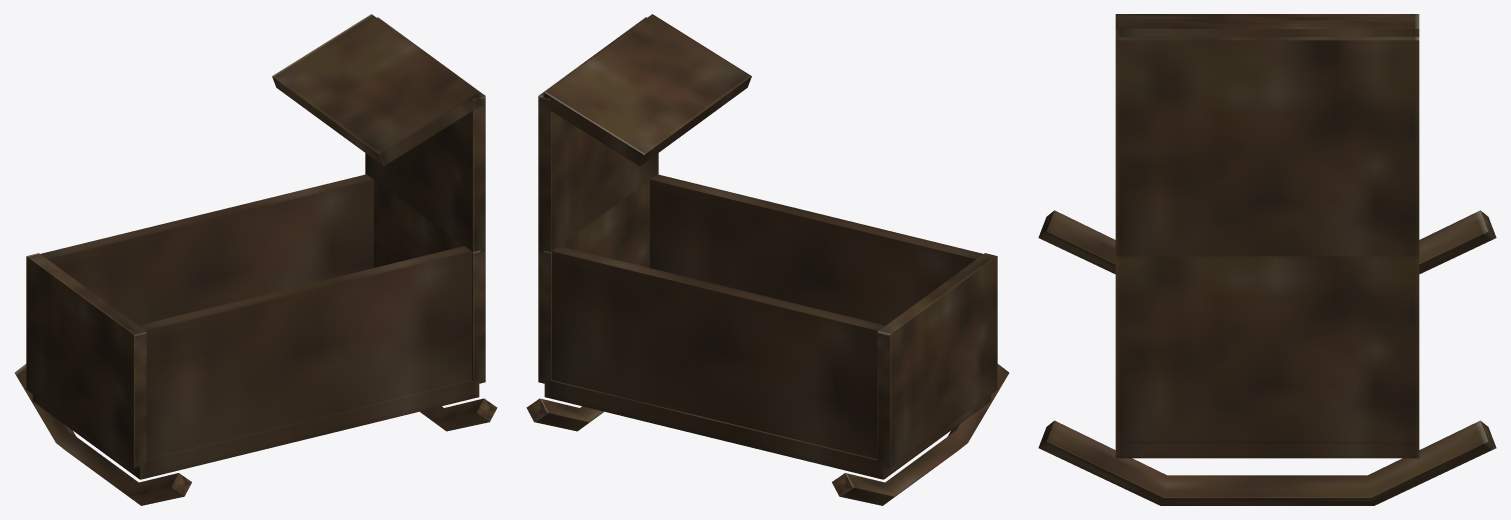
Rendered from cradle.obj.
The picture shows the model from 3 angles, left to right: view 1: azimuth 30°, elevation 25°; view 2: azimuth 150°, elevation 25°; view 3: azimuth 270°, elevation 25°; orthographic projection. The views are drawn at different scales.
Visible parts, largest first — view 1: cradle_basket; view 2: cradle_basket; view 3: cradle_basket.
Part boxes in pixels (box(x1,y1,x2,y2)): cradle_basket: box(14, 14, 497, 505); cradle_basket: box(526, 14, 1009, 505); cradle_basket: box(1038, 14, 1496, 505).
Size of the model in its own units: 0.83 by 0.7858 by 0.6634.
1 material, 1 textured.
